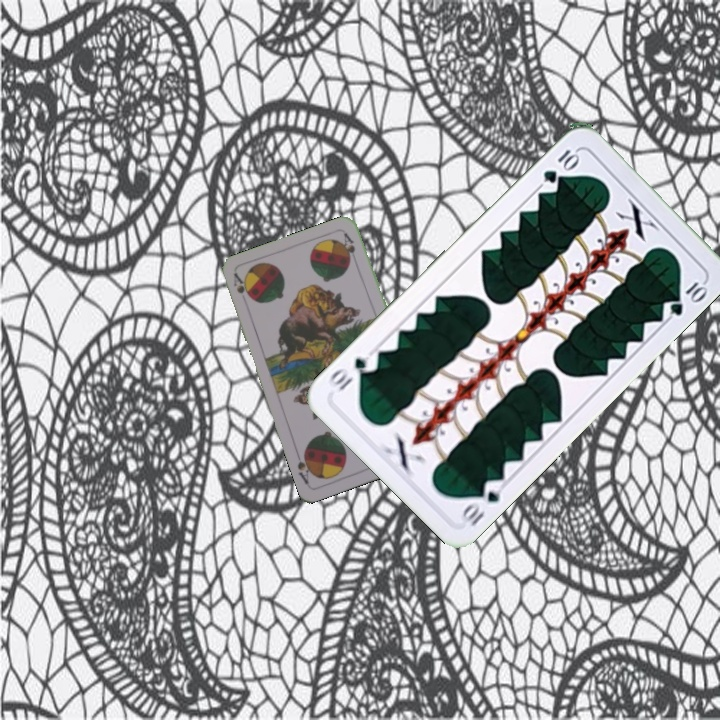G10: (458, 475, 503, 529), (539, 145, 582, 186)
SA: (229, 269, 252, 301)
